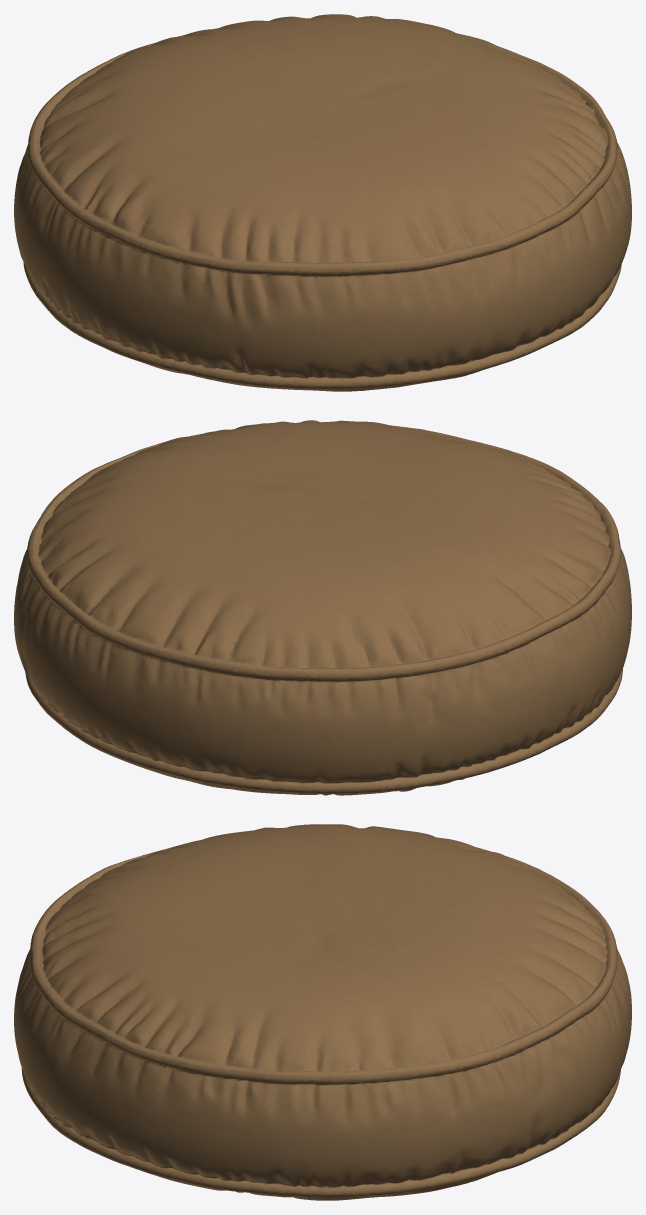
The model's file is floor-cushion-round-velvet.glb.
3 renders of one model, top to bottom at view 1: azimuth 30°, elevation 25°; view 2: azimuth 150°, elevation 25°; view 3: azimuth 270°, elevation 25°, orthographic.
Parts seen in each view (by area): view 1: world; view 2: world; view 3: world.
Part boxes in pixels (<box>): world: <box>14,14,631,391</box>; world: <box>14,420,631,795</box>; world: <box>14,824,631,1200</box>.
Size of the model in its own units: 1 by 0.328 by 1.
Materials: 1 (1 with a texture image).
